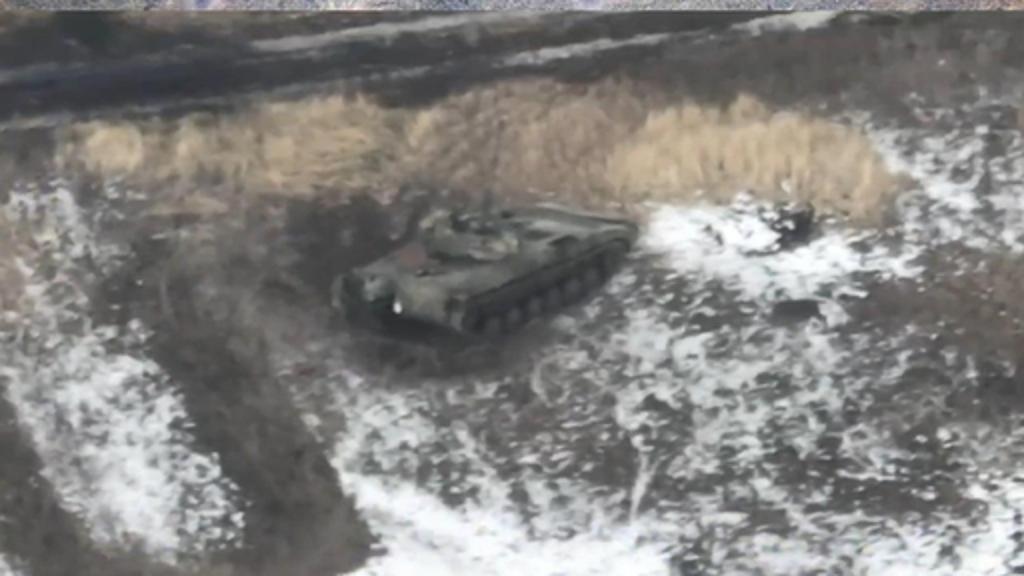APC-IFV: (340, 166, 638, 352)
